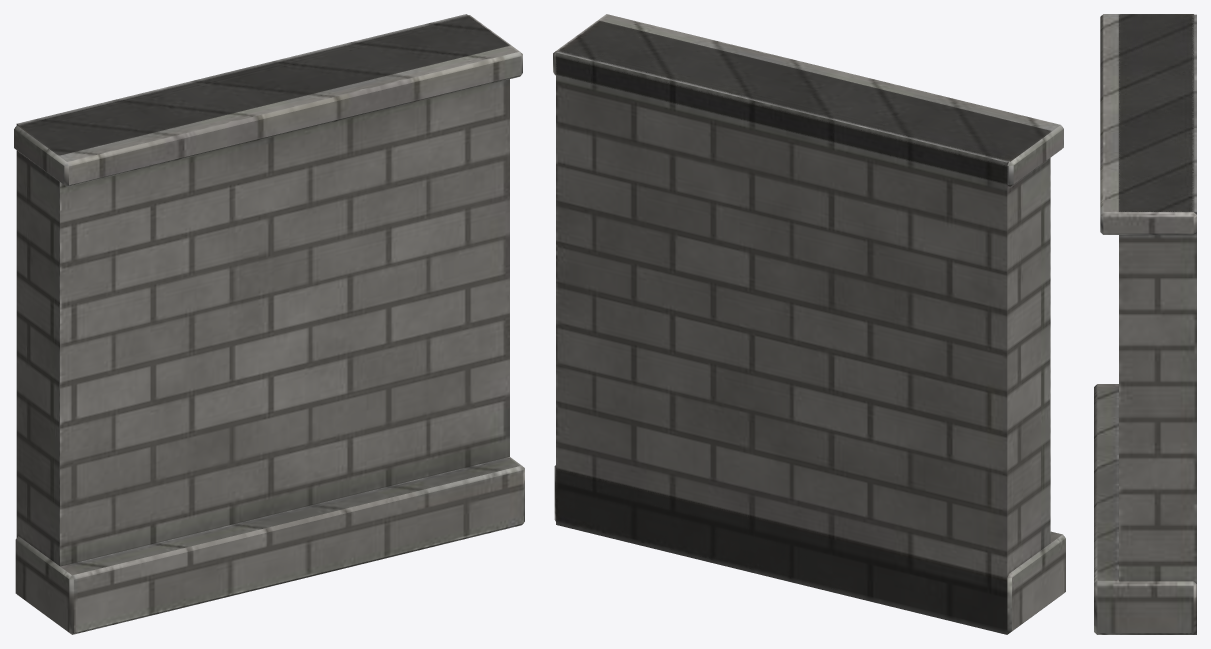
Rendered from parede_pedra.glb.
3 views of the same model, side by side, from view 1: azimuth 30°, elevation 25°; view 2: azimuth 150°, elevation 25°; view 3: azimuth 270°, elevation 25° (orthographic). The views are drawn at different scales.
Visible parts, largest first — view 1: parede_pedra; view 2: parede_pedra; view 3: parede_pedra.
Part boxes in pixels (box(x1,y1,x2,y2)): parede_pedra: box(14, 14, 524, 634); parede_pedra: box(553, 14, 1065, 634); parede_pedra: box(1094, 14, 1196, 634).
Size of the model in its own units: 3.06 by 3 by 0.66.
1 material, 1 textured.
